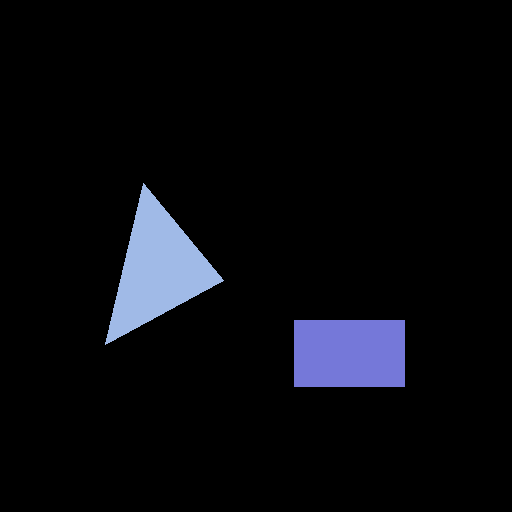rectangle: (294, 320, 404, 386)
triangle: (105, 183, 223, 344)
